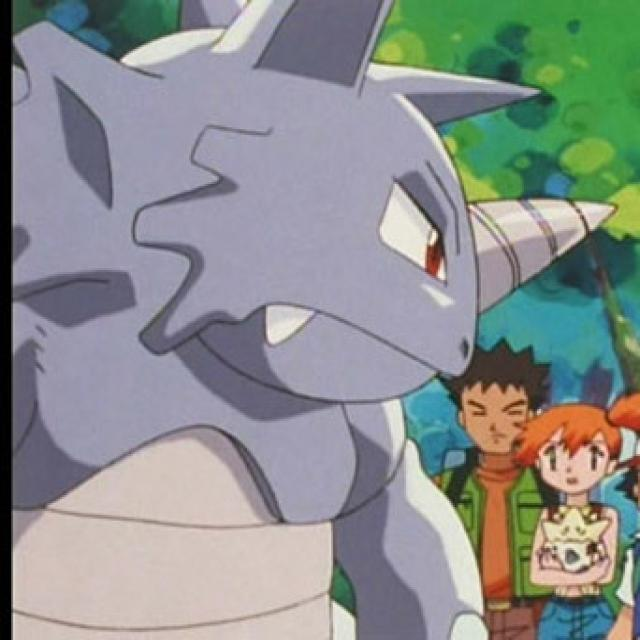Rhydon: (12, 0, 488, 640)
